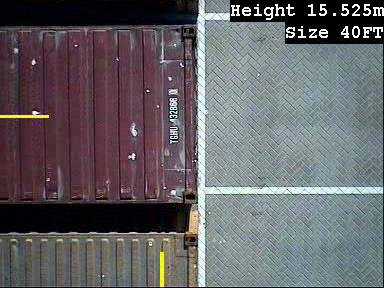groundmarker_2: (193, 227, 239, 288), (193, 44, 237, 106)
